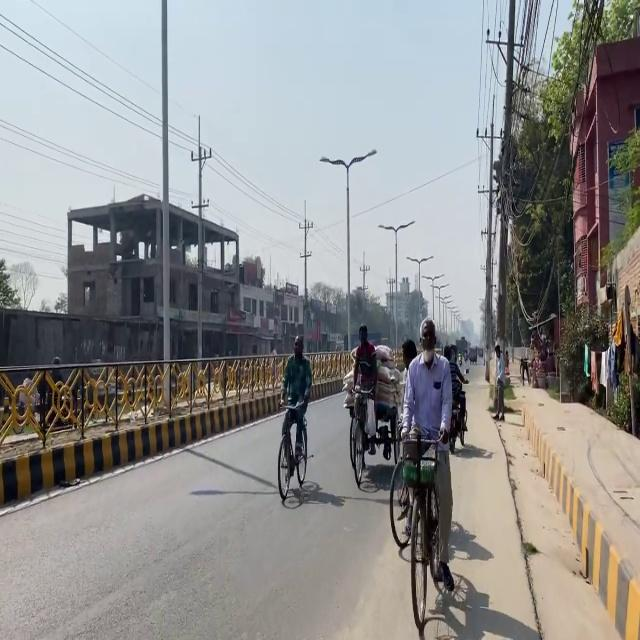Construction-barrier: (485, 356, 544, 638), (22, 428, 184, 486)
Fallen-tree: (519, 356, 530, 385)
Garbage-bin: (396, 308, 464, 490), (279, 335, 313, 465)
Pole: (0, 344, 256, 522)
Pothole: (531, 356, 640, 640)
Traffic-cone: (374, 452, 472, 640)
